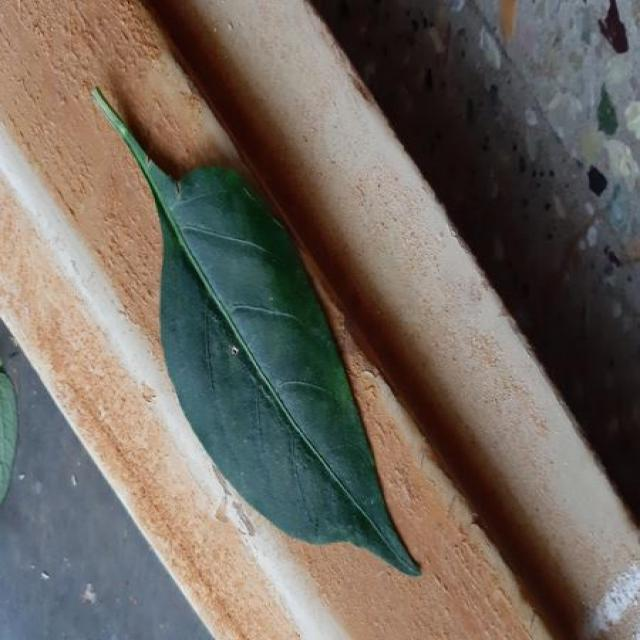chilly: (93, 89, 420, 574)
